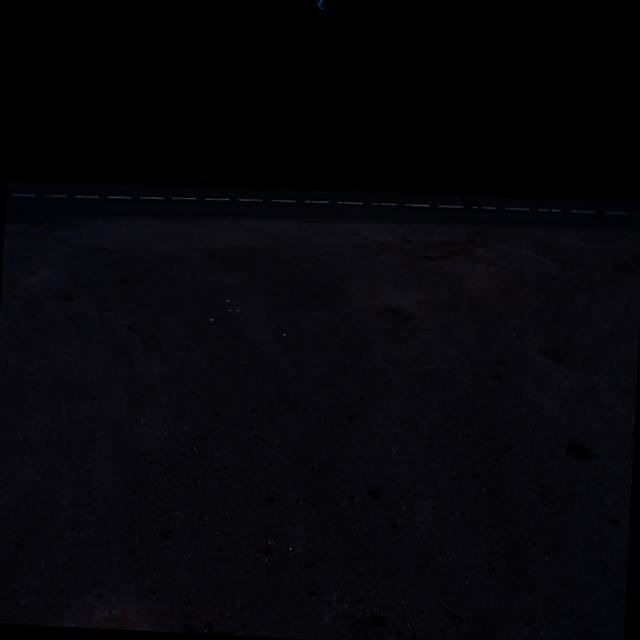road: (0, 182, 640, 640)
